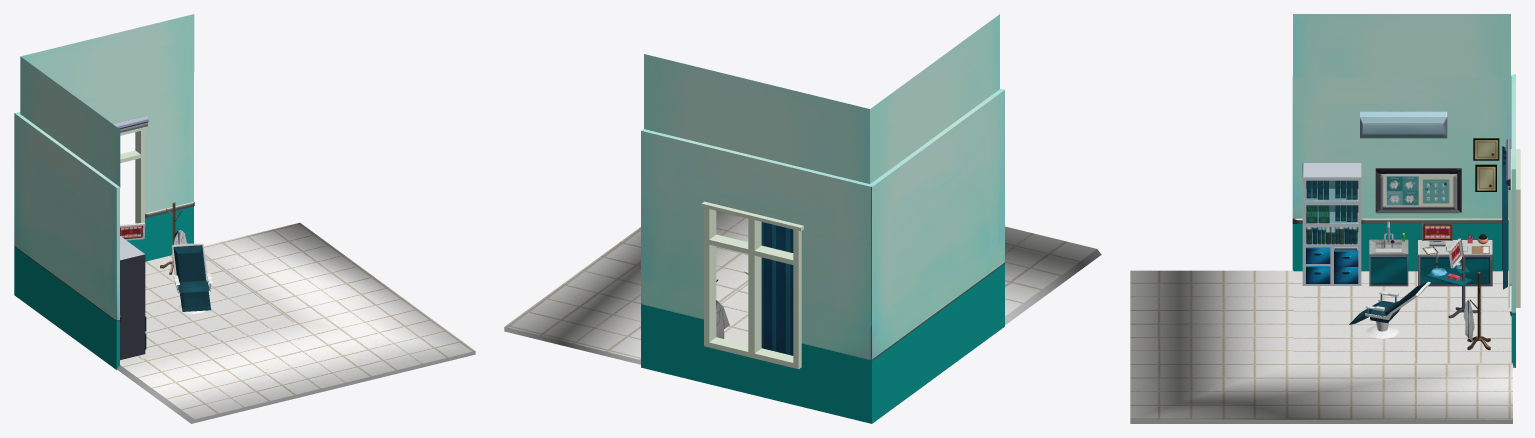
File: Tx_Interior_Work_Dentist.fbx
3 views of the same model, side by side, from view 1: azimuth 30°, elevation 25°; view 2: azimuth 150°, elevation 25°; view 3: azimuth 270°, elevation 25° (orthographic). The views are drawn at different scales.
Parts seen in each view (by area): view 1: Expanded_:Expand, room, bookshelf, dentistchair, hanger; view 2: room, Expanded_:Expand; view 3: Expanded_:Expand, room, bookshelf, table, mirror, sink, dentistchair, dentistprop, hanger.
Boxes of the visible parts, x1=… form: Expanded_:Expand: x1=20, y1=14, x2=475, y2=423; room: x1=14, y1=72, x2=292, y2=369; bookshelf: x1=120, y1=236, x2=146, y2=359; dentistchair: x1=172, y1=243, x2=212, y2=313; hanger: x1=160, y1=202, x2=187, y2=274; room: x1=641, y1=89, x2=1004, y2=423; Expanded_:Expand: x1=504, y1=14, x2=1101, y2=364; Expanded_:Expand: x1=1130, y1=14, x2=1512, y2=423; room: x1=1292, y1=74, x2=1520, y2=367; bookshelf: x1=1302, y1=163, x2=1361, y2=285; table: x1=1418, y1=223, x2=1492, y2=286; mirror: x1=1306, y1=181, x2=1357, y2=244; sink: x1=1369, y1=221, x2=1408, y2=286; dentistchair: x1=1349, y1=281, x2=1430, y2=338; dentistprop: x1=1426, y1=238, x2=1477, y2=318; hanger: x1=1463, y1=272, x2=1490, y2=350.
Bounding box in the file's own units: 36.41 × 29.34 × 39.71.
Materials: 4 (2 with a texture image).
